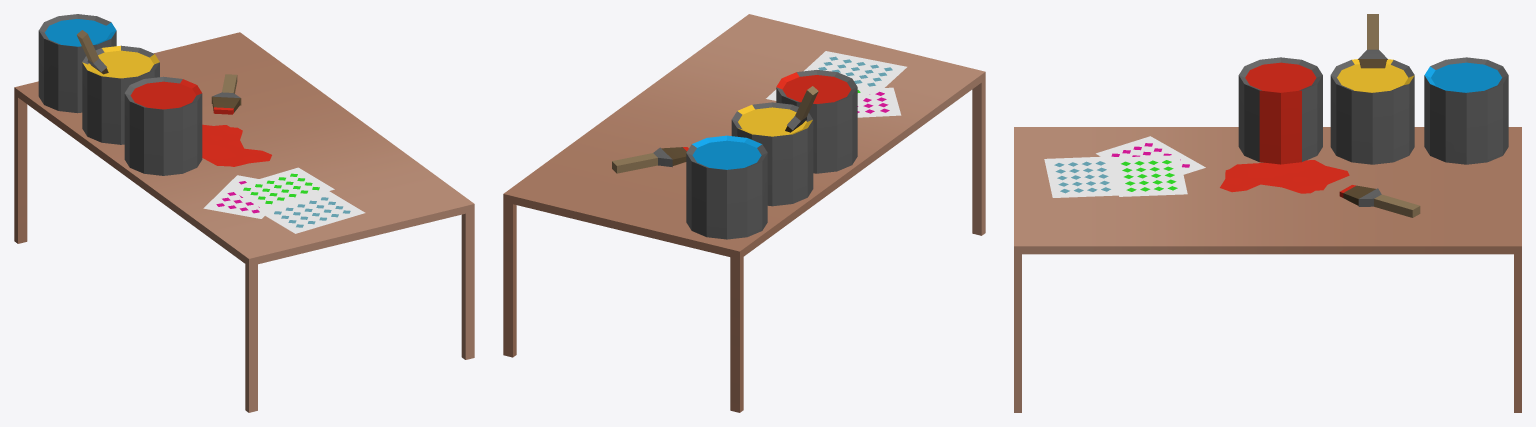
Rendered from Custom.fbx.
3 renders of one model, left to right at view 1: azimuth 30°, elevation 25°; view 2: azimuth 150°, elevation 25°; view 3: azimuth 270°, elevation 25°, orthographic. The views are drawn at different scales.
Visible parts, largest first — view 1: Cube.039; view 2: Cube.039; view 3: Cube.039.
Part boxes in pixels (<box>): Cube.039: <box>14,14,474,412</box>; Cube.039: <box>503,14,985,412</box>; Cube.039: <box>1014,14,1521,412</box>.
Size of the model in its own units: 127 by 225 by 137.
